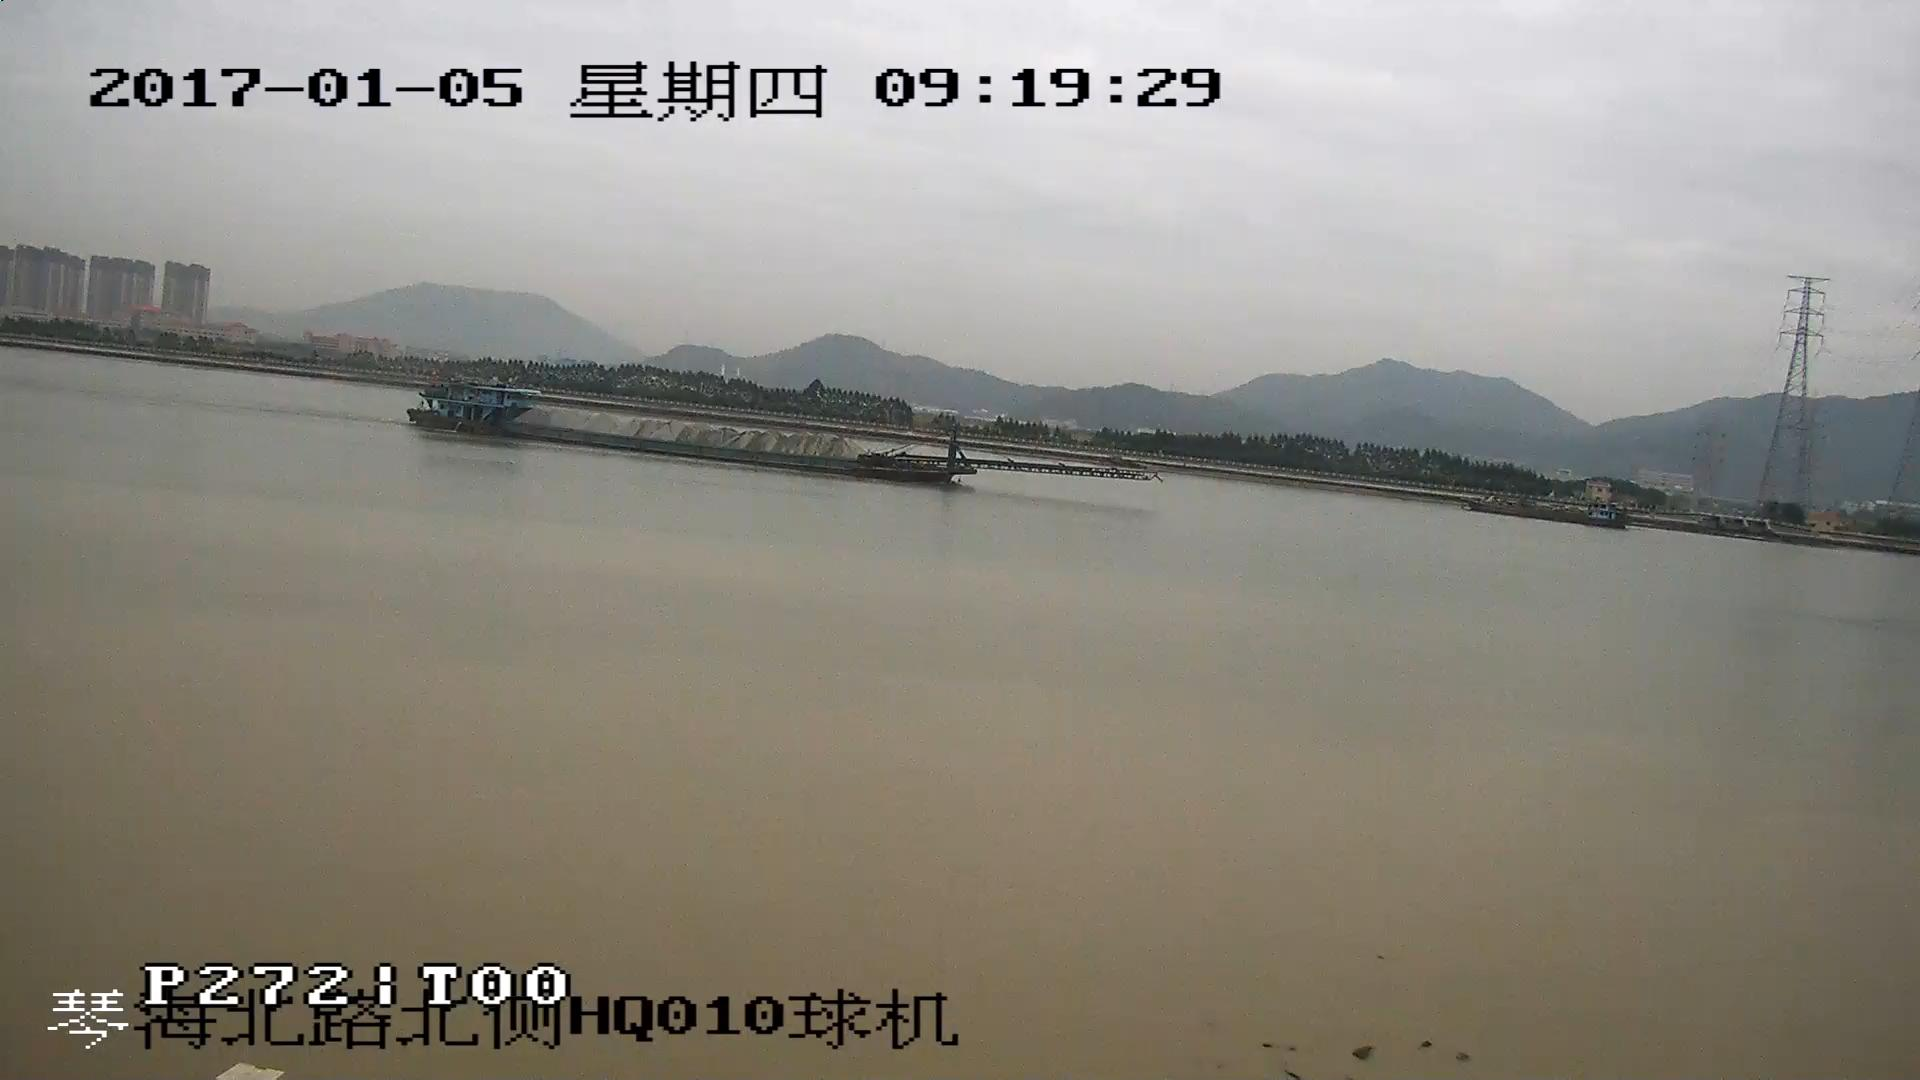ore carrier: (404, 377, 1153, 492)
